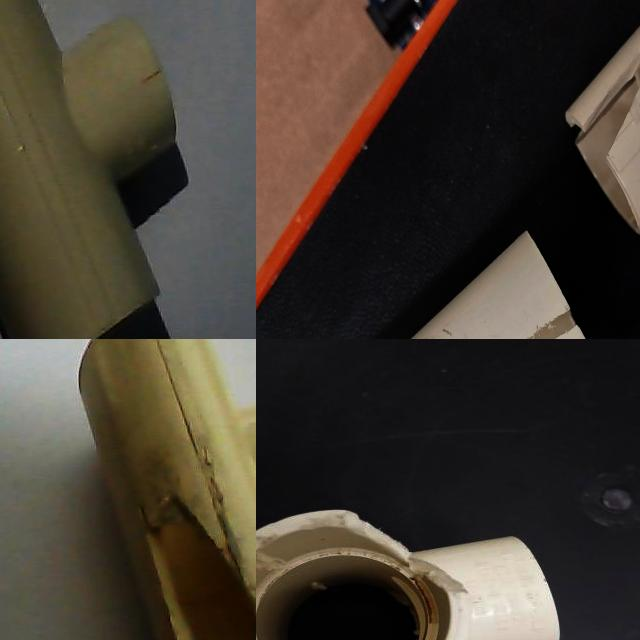Defective: (338, 503, 462, 633), (318, 175, 420, 328), (149, 497, 256, 640), (256, 12, 303, 115), (608, 249, 638, 315), (256, 516, 287, 573)
T Joint: (256, 0, 487, 326), (77, 339, 256, 640), (473, 229, 640, 339)
